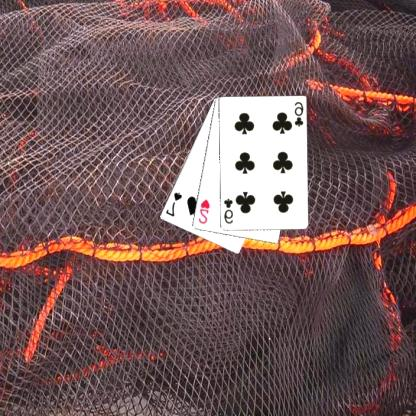2H: (197, 197, 213, 225)
6C: (223, 196, 236, 225), (293, 100, 306, 128)
7S: (164, 190, 185, 218)
